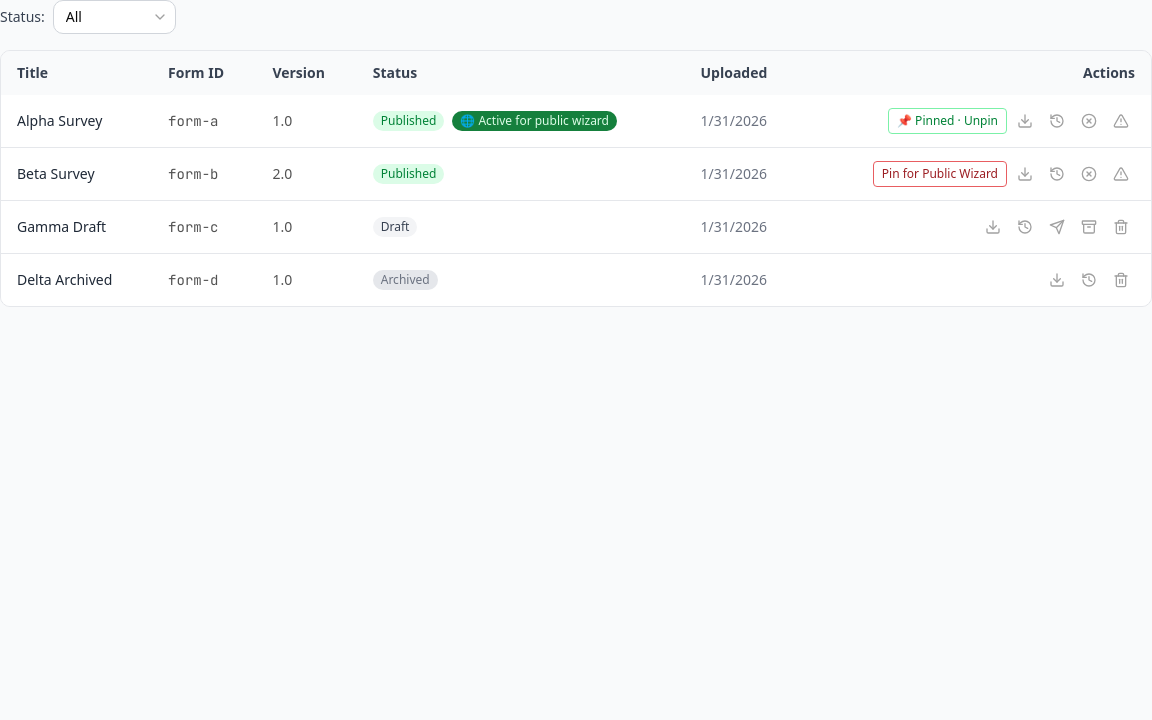
Test: QuestionnaireList — public-wizard pin (Story 9-17) › 4. clicking Pin opens the dialog with the dynamic body (current + new title)
// Pin Beta — dialog should mention current (Alpha) + new (Beta)
Click the button with test id "qm-pin-button" at (940, 174), box [873,161,1007,187]
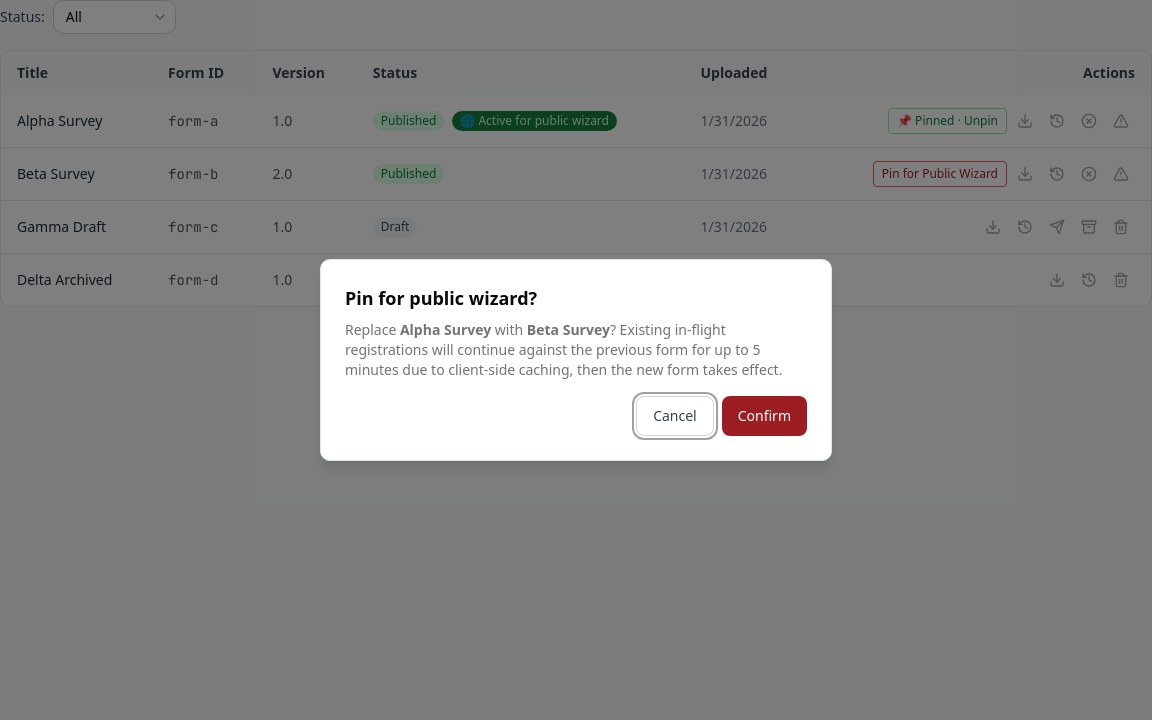
Check: the heading "Pin for public wizard?" is shown, box [345,286,537,310]
Check: the text "Alpha Survey" is shown, box [400,320,491,339]
Check: the text "Beta Survey" is shown, box [527,320,610,339]
